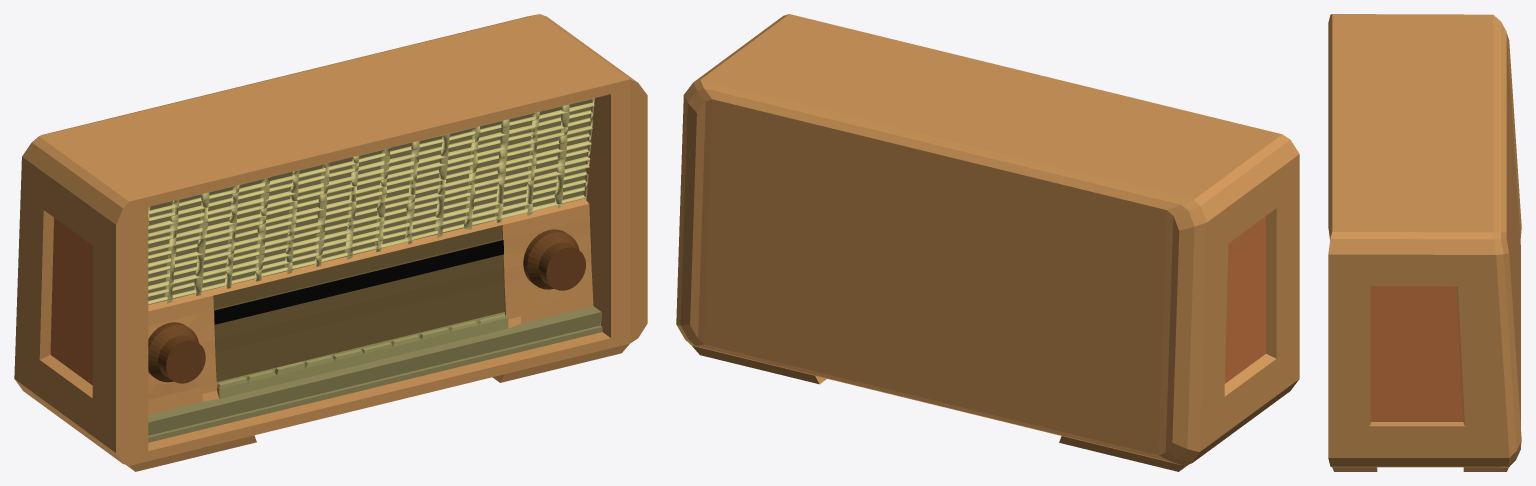
File: radio.fbx
3 views of the same model, side by side, from view 1: azimuth 30°, elevation 25°; view 2: azimuth 150°, elevation 25°; view 3: azimuth 270°, elevation 25° (orthographic). The views are drawn at different scales.
Parts seen in each view (by area): view 1: Cube, Plane, Cylinder; view 2: Cube; view 3: Cube.
Boxes of the visible parts, x1,y1,x2,y2 form: Cube: [14, 14, 647, 471]; Plane: [148, 98, 594, 304]; Cylinder: [148, 229, 585, 383]; Cube: [676, 14, 1299, 471]; Cube: [1328, 14, 1521, 471].
Bounding box in the file's own units: 846 × 415 × 299.
